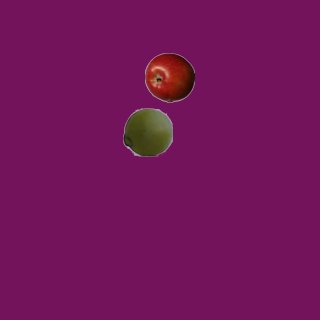Apple Braeburn: (144, 52, 194, 102)
Grape White 4: (122, 106, 172, 156)
